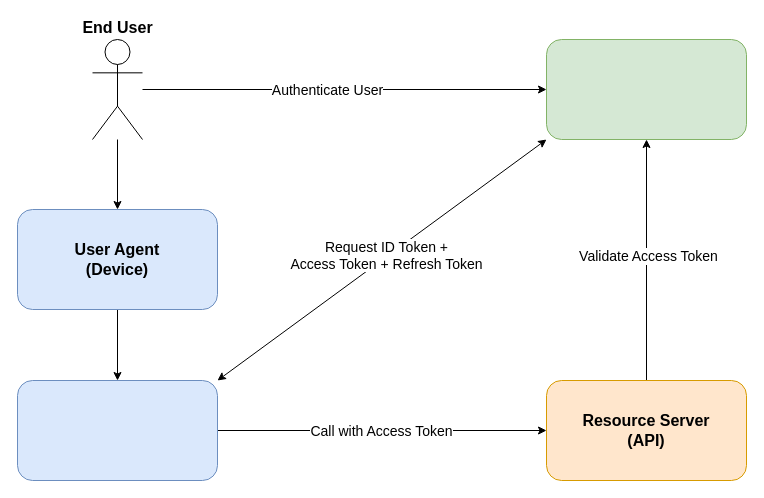
This 764x498 diagram has some shape labels left out. The shapes that lost their labels are listed below. From the top down, each one's centre as x and y in pixels, then its label:
At [646,89]: "OpenID Provider (Authorization Server)".
At [117,430]: "Relying Party (Client Application)".
